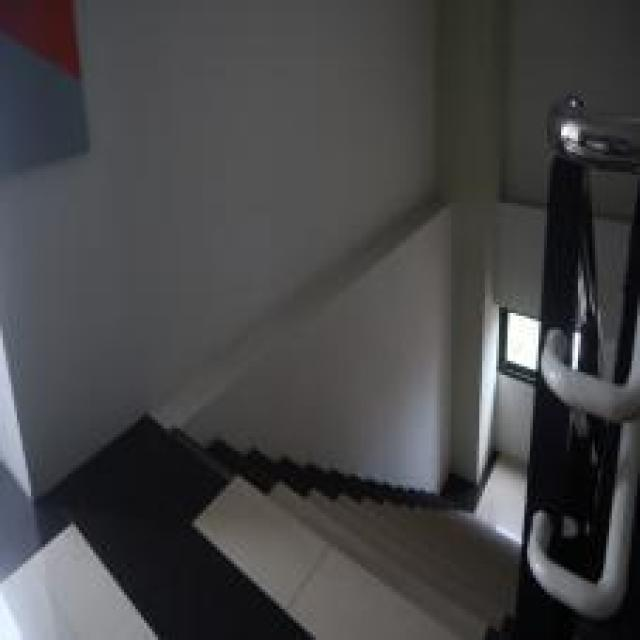downstair: (190, 435, 528, 638)
